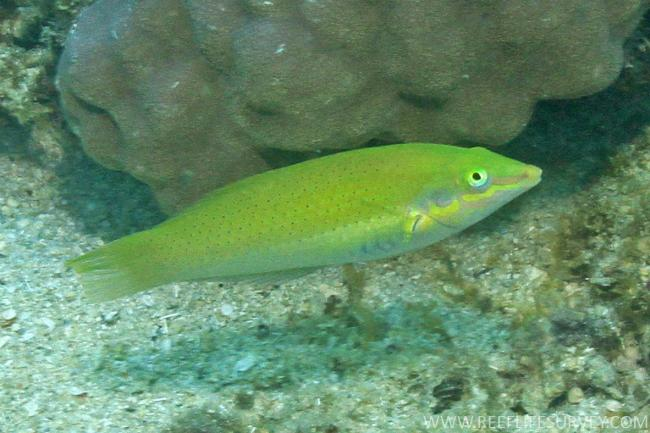fish: (71, 142, 544, 303)
